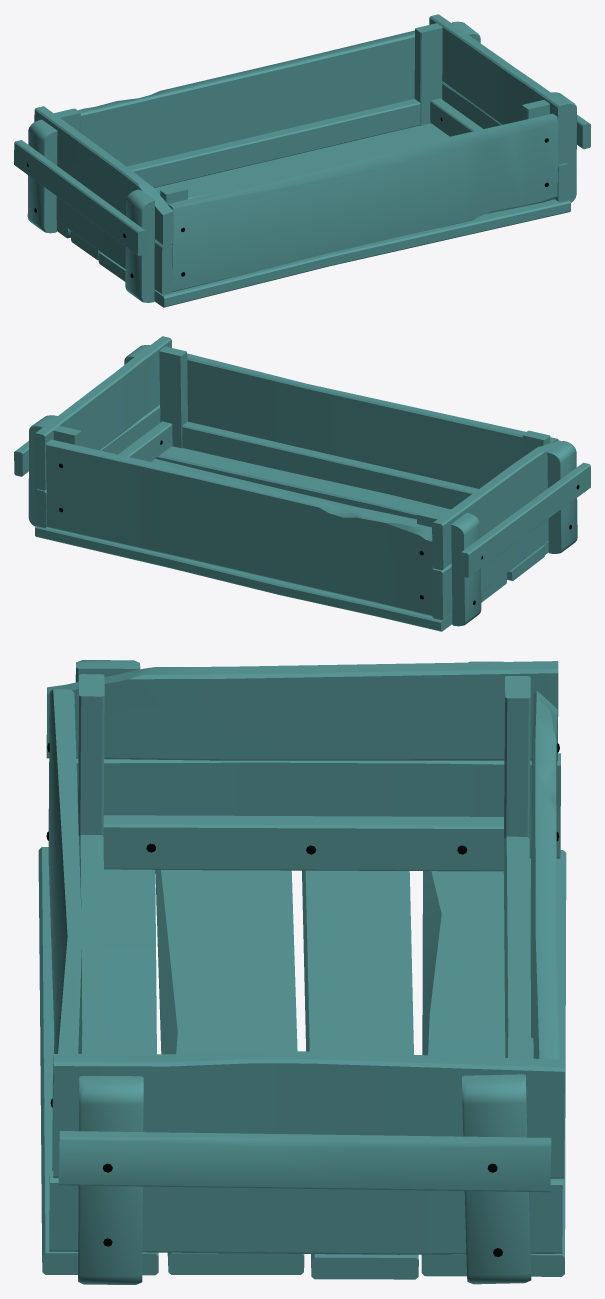
The model's file is SM_Wooden_Busket_01.fbx.
3 renders of one model, top to bottom at view 1: azimuth 30°, elevation 25°; view 2: azimuth 150°, elevation 25°; view 3: azimuth 270°, elevation 25°, orthographic. The views are drawn at different scales.
Visible parts, largest first — view 1: SM_Wooden_Busket_01; view 2: SM_Wooden_Busket_01; view 3: SM_Wooden_Busket_01.
Part boxes in pixels (x1,y1,x2,y2): SM_Wooden_Busket_01: [14, 14, 590, 307]; SM_Wooden_Busket_01: [14, 336, 590, 631]; SM_Wooden_Busket_01: [38, 660, 566, 1284].
Bounding box in the file's own units: 122 × 61.15 × 28.25.
